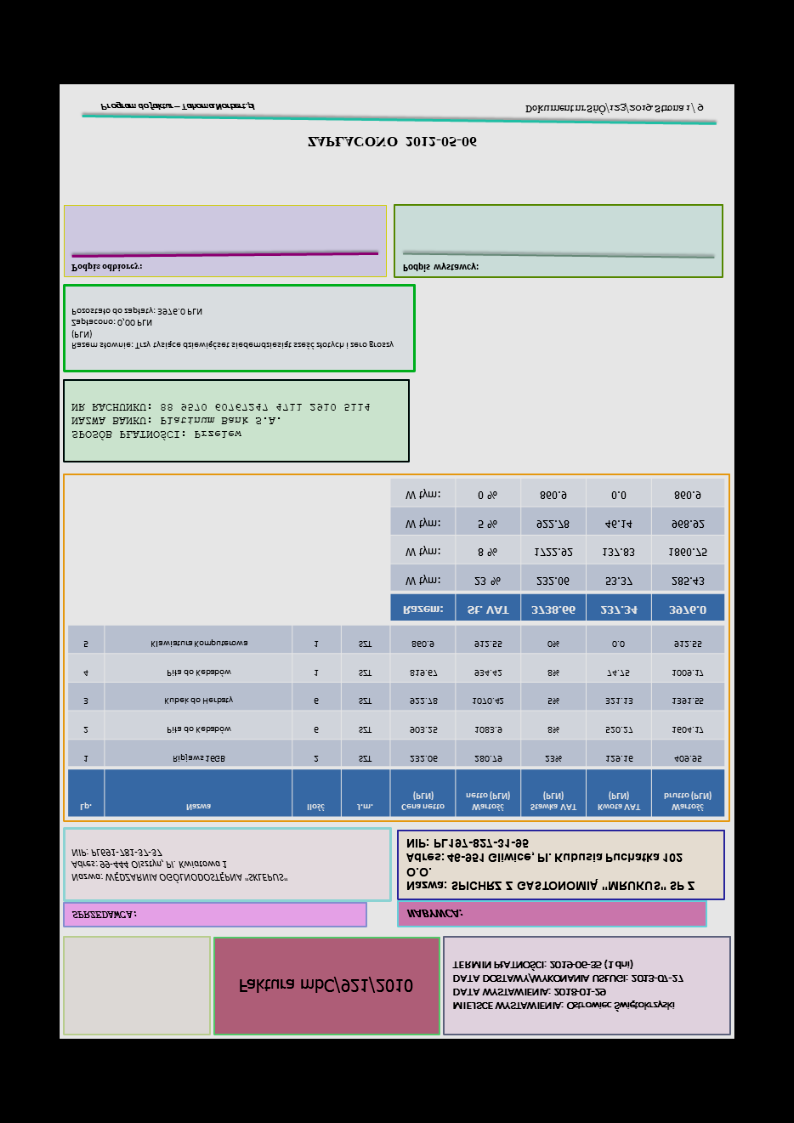Table: (65, 622, 727, 819), (389, 478, 728, 621)
TextBox: (401, 833, 699, 896), (68, 304, 397, 353), (69, 397, 372, 445), (448, 955, 687, 1014), (68, 844, 292, 888), (230, 972, 416, 1002), (304, 131, 482, 151), (521, 98, 706, 117), (97, 100, 260, 117), (68, 258, 145, 277), (399, 258, 483, 275), (403, 904, 464, 925), (66, 907, 137, 924)
